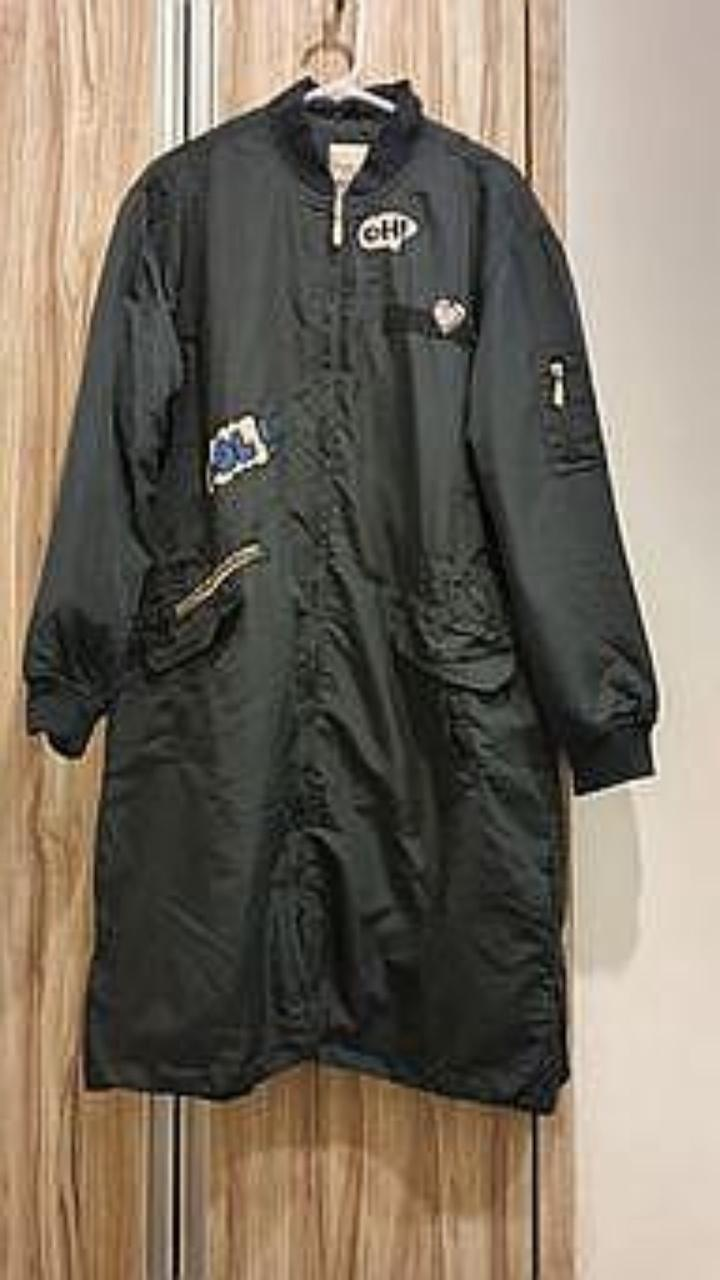Sports_Jacket: (23, 76, 658, 1111)
